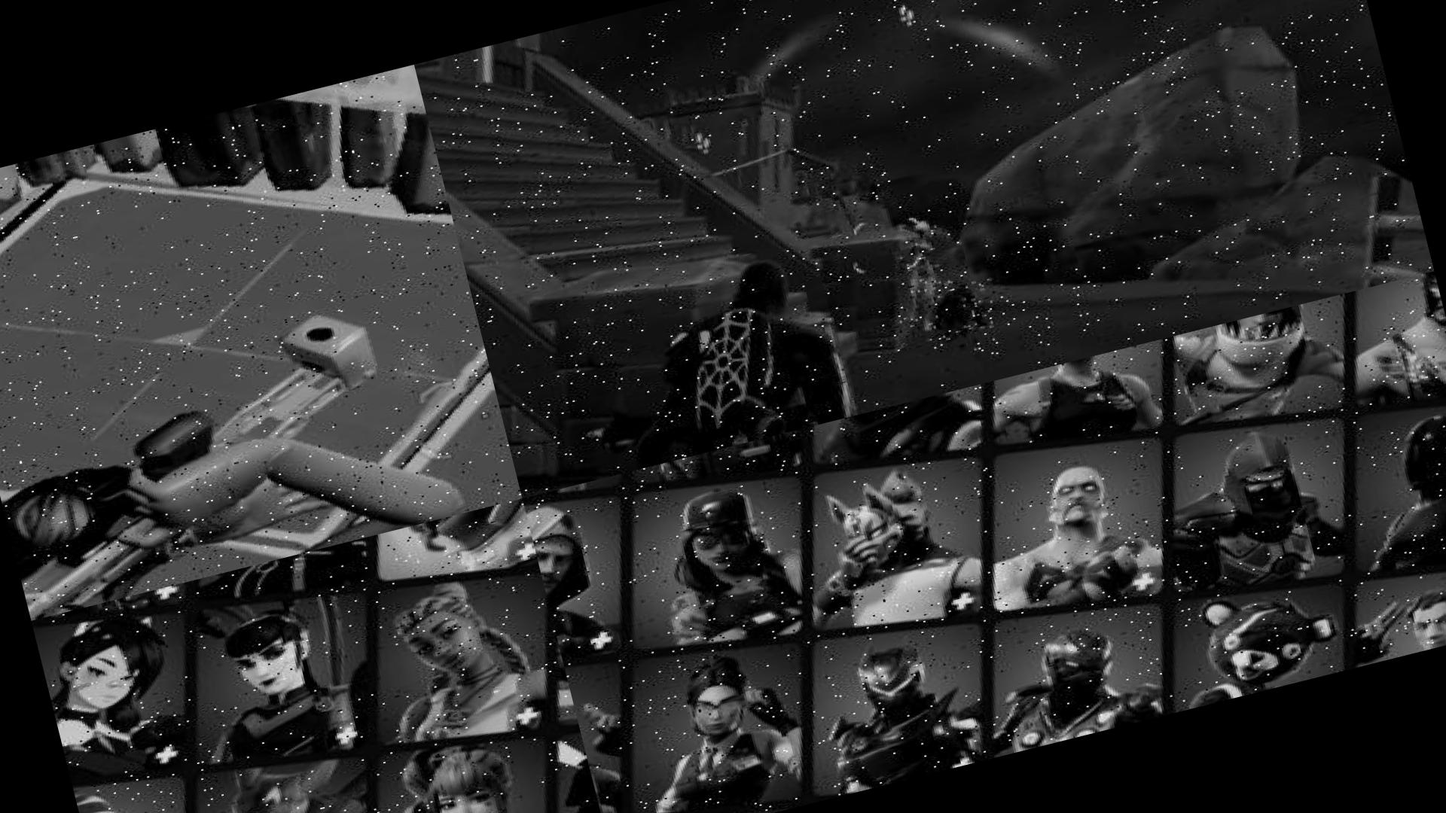player: (594, 245, 897, 471), (893, 186, 979, 310), (932, 239, 1030, 335)
